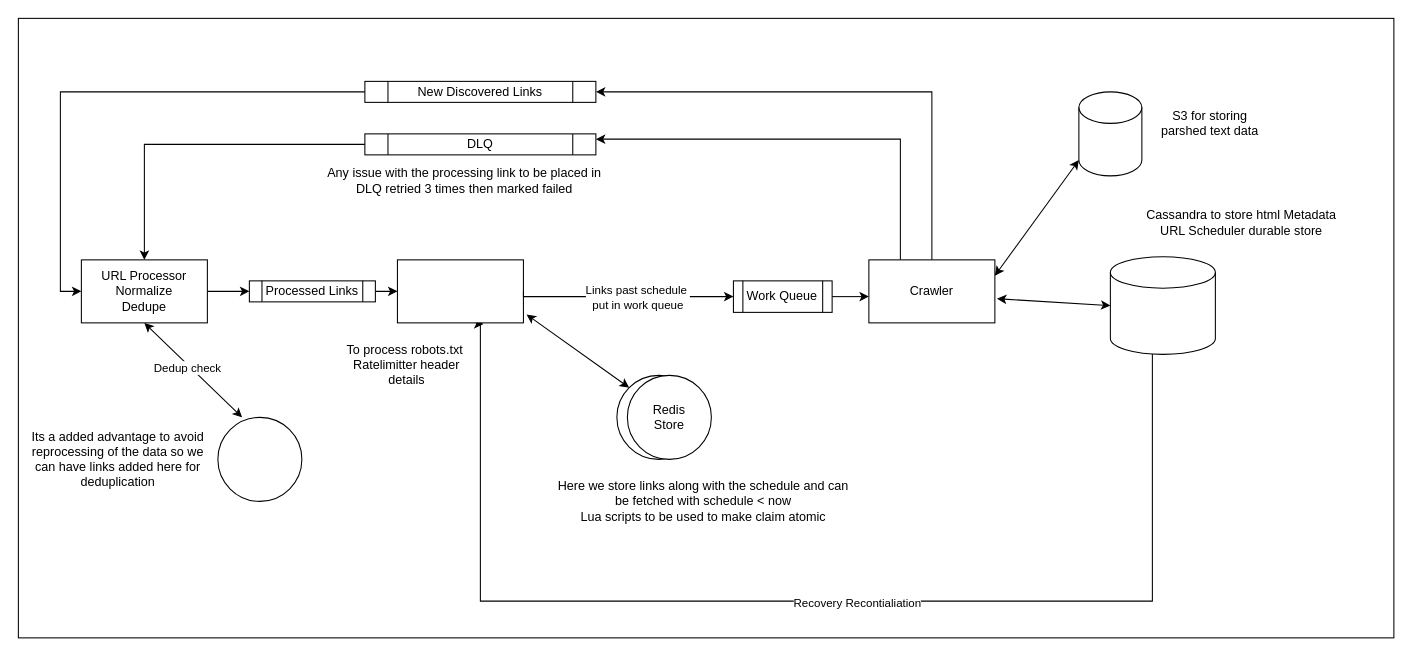
The diagram is 1412 pixels wide and 656 high, and some of its shapes have lost their labels. Here are the shapes that lost their labels. From the top down, the centre of each, then its label:
At point (1110, 133): "S3".
At point (459, 291): "Scheduler".
At point (1162, 305): "cassandra".
At point (259, 458): "DedupeLinks".
